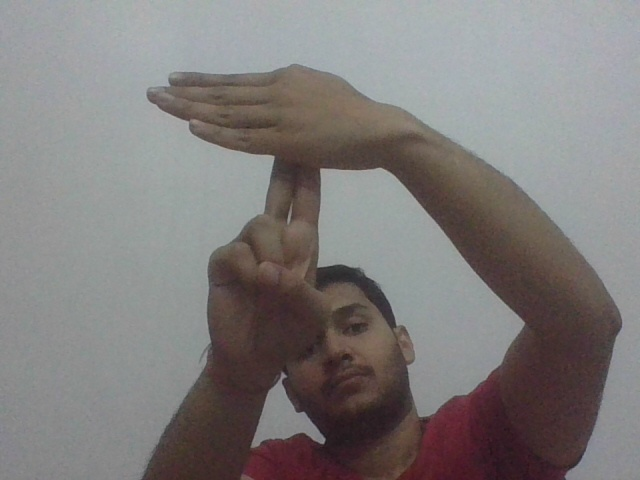N: (144, 65, 390, 225)
